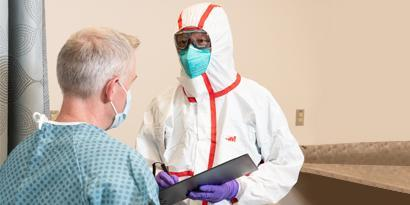Gloves: (187, 179, 238, 202), (155, 170, 178, 187)
Goggles: (172, 28, 211, 49)
